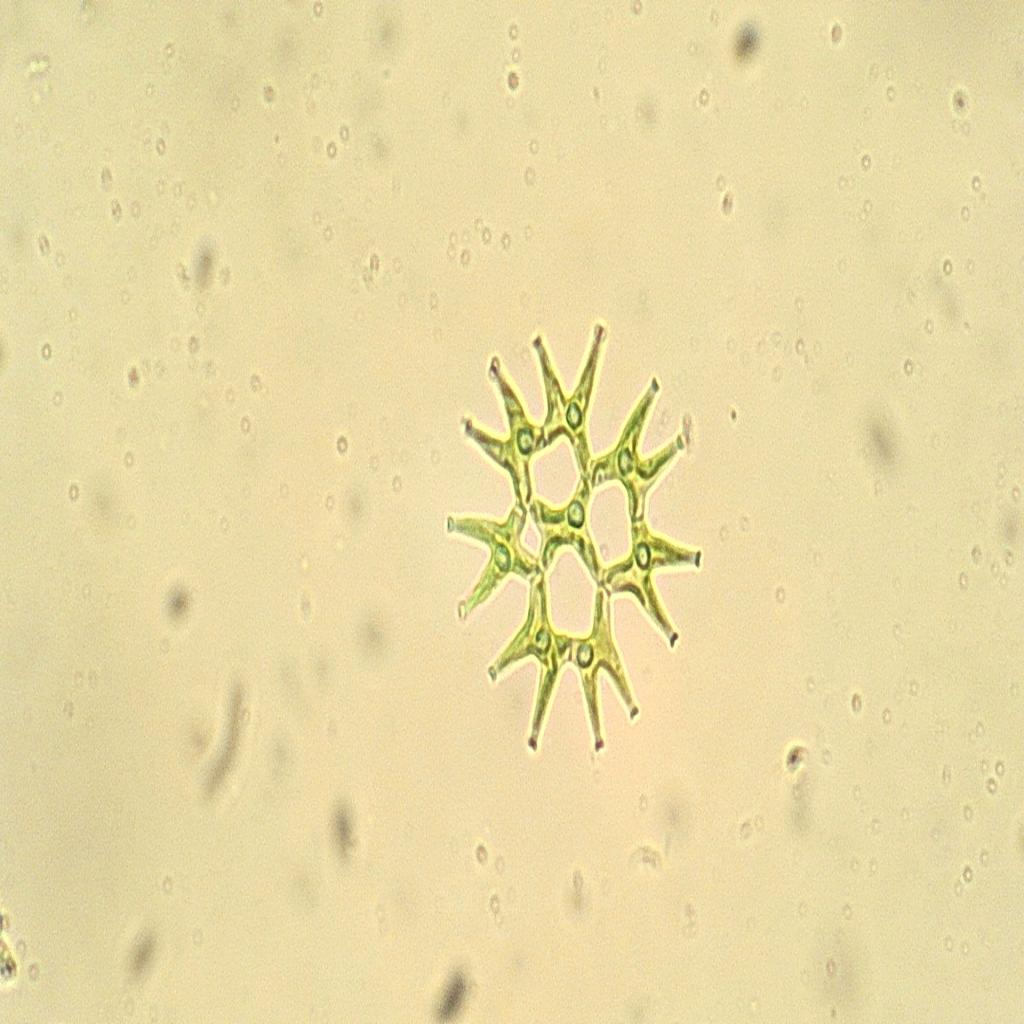Pediastrum_75T: (441, 311, 708, 775)
